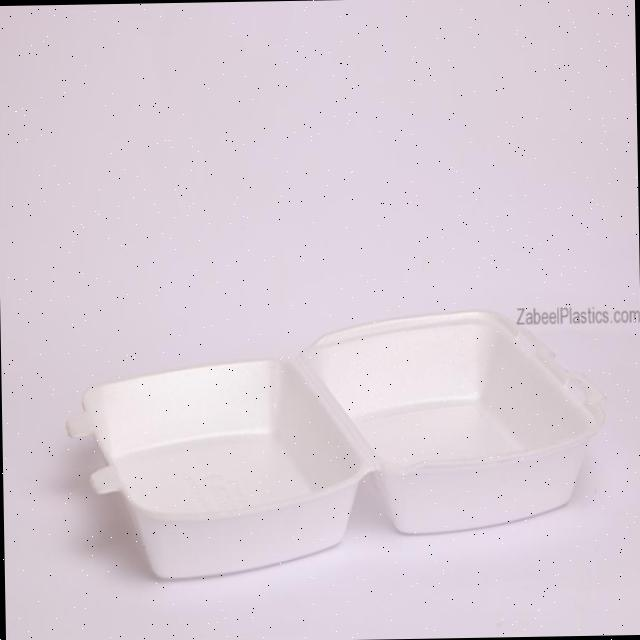styrofoam: (64, 351, 379, 581), (296, 304, 608, 536)
